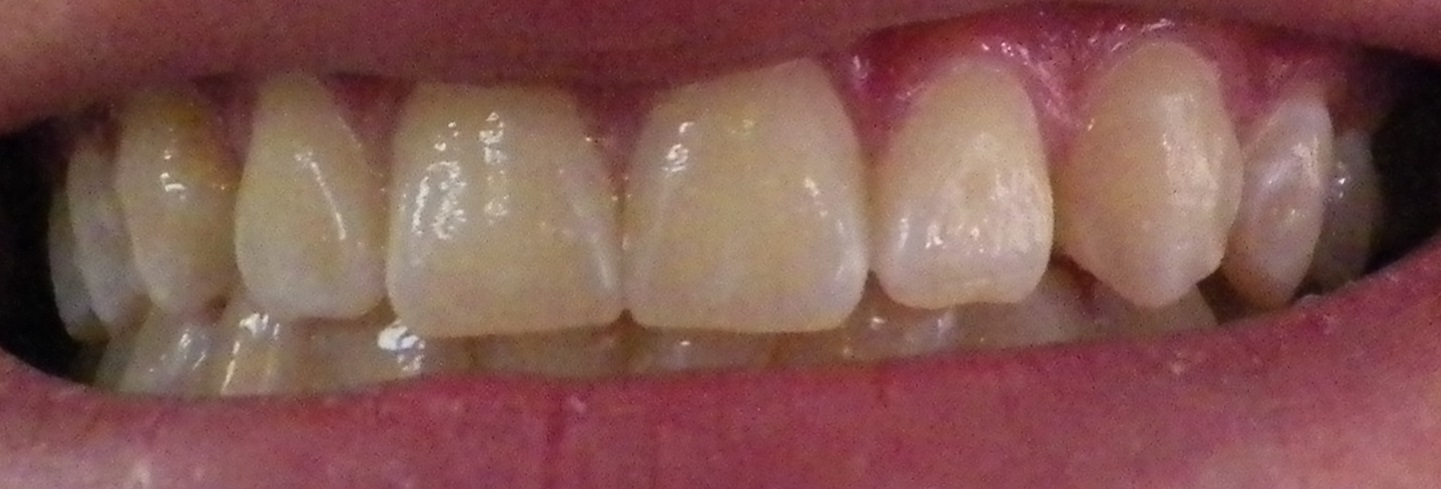boca: (39, 53, 1407, 387)
